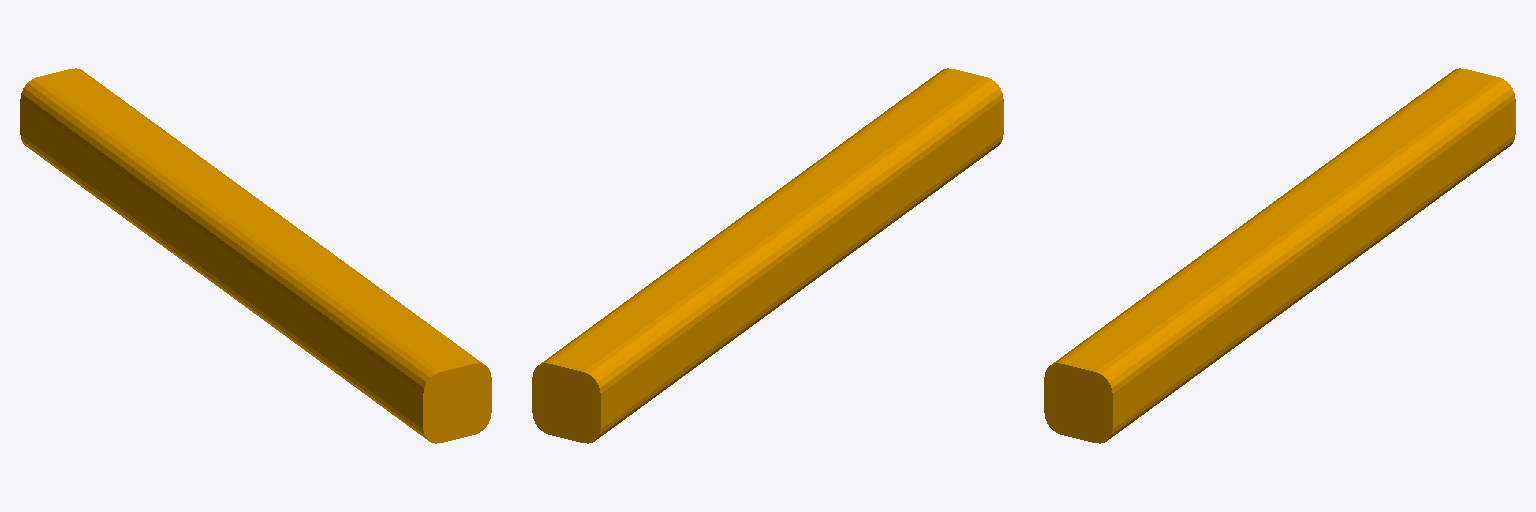
robot.urdf — pallet_rack:
<?xml version="1.0"?>
<robot name="pallet_rack">

  <link name="rack_base">
    
    <inertial>
      <mass value="0.5"/>
      <origin xyz="0 0 0" rpy="0 0 0"/>
      <inertia ixx="0.1" ixy="0.0" ixz="0.0" iyy="0.1" iyz="0.0" izz="0.1"/>
    </inertial>

    <visual><origin xyz="0 0 0" rpy="0 0 0"/><geometry><mesh filename="pillar.dae"/></geometry></visual>
    <collision><origin xyz="0 0 0" rpy="0 0 0"/><geometry><mesh filename="pillar.dae"/></geometry></collision>

  </link>
</robot>

--- What the picture shows (computed from the rendered views, not written in the file) ---
The picture shows the robot from 3 angles, left to right: view 1: azimuth 30°, elevation 25°; view 2: azimuth 150°, elevation 25°; view 3: azimuth 330°, elevation 25°; orthographic projection.
Model pallet_rack with 1 links and 0 joints (none), rooted at rack_base, posed every joint at zero.
Links seen in each view (by area): view 1: rack_base; view 2: rack_base; view 3: rack_base.
Link boxes in pixels (x1,y1,x2,y2): rack_base: (20, 68, 491, 443); rack_base: (532, 68, 1003, 443); rack_base: (1044, 68, 1515, 443).
Size in the robot's own frame: 0.4 by 4.1 by 0.4 metres.
Meshes: 1 distinct files referenced, 1 mesh visuals loaded (1 Collada DAE).
